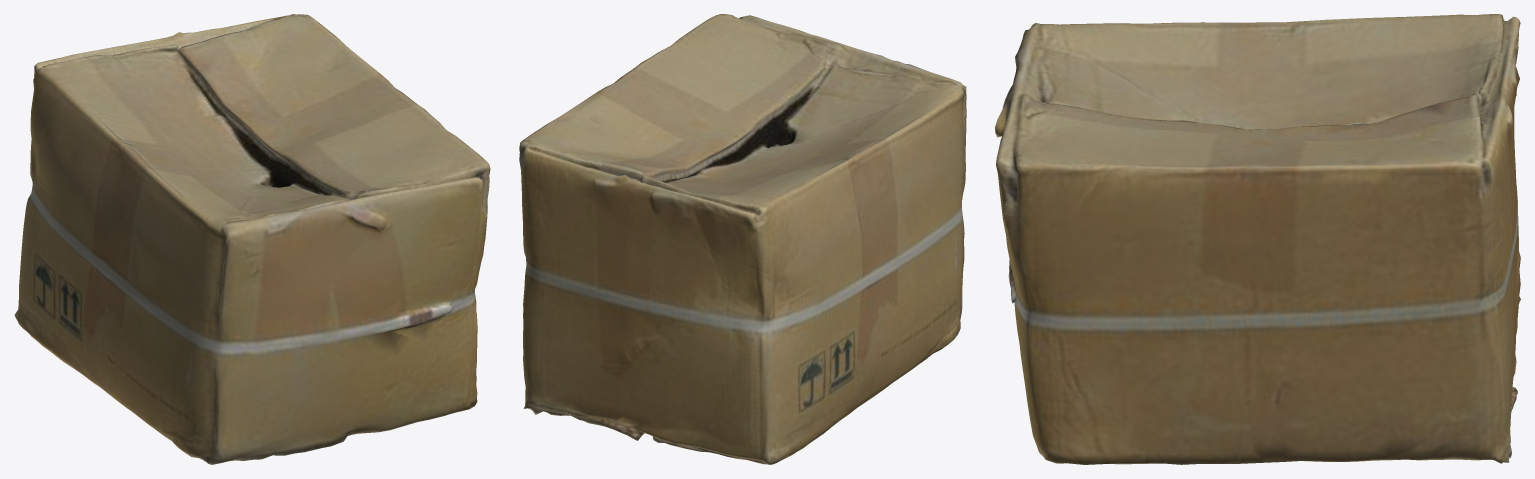
File: cardboard_box_01.glb
3 views of the same model, side by side, from view 1: azimuth 30°, elevation 25°; view 2: azimuth 150°, elevation 25°; view 3: azimuth 270°, elevation 25° (orthographic). The views are drawn at different scales.
Visible parts, largest first — view 1: cardboard_box_01; view 2: cardboard_box_01; view 3: cardboard_box_01.
Boxes of the visible parts, x1,y1,x2,y2 form: cardboard_box_01: (14,14,490,464); cardboard_box_01: (519,14,966,464); cardboard_box_01: (995,14,1520,464).
Size of the model in its own units: 0.387 by 0.3418 by 0.5159.
Materials: 1 (1 with a texture image).
